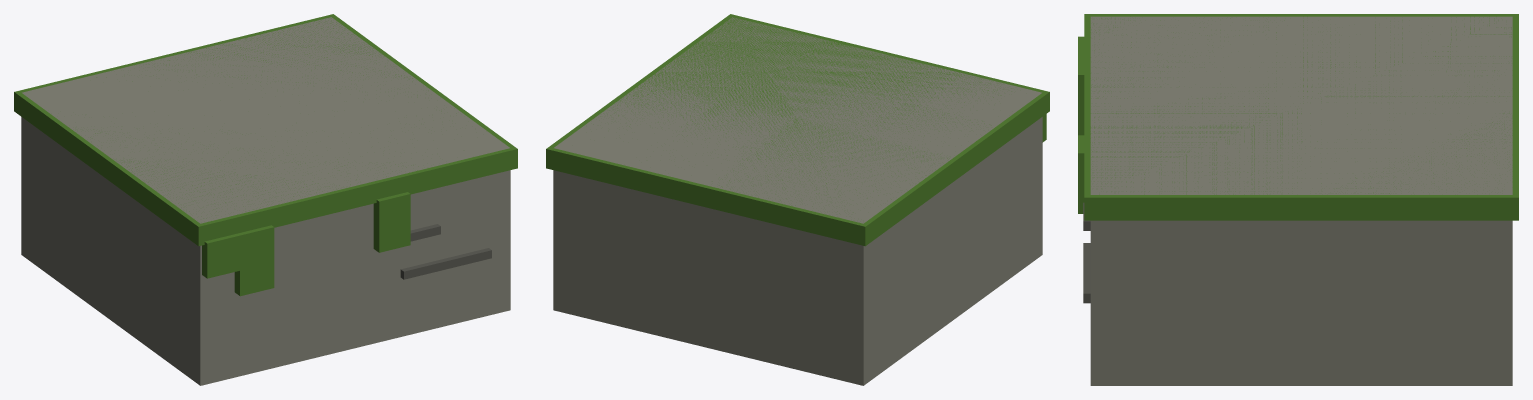
File: platform_small.glb
The picture shows the model from 3 angles, left to right: view 1: azimuth 30°, elevation 25°; view 2: azimuth 150°, elevation 25°; view 3: azimuth 270°, elevation 25°; orthographic projection. The views are drawn at different scales.
Parts seen in each view (by area): view 1: stone-col, moss-col, stone_dark; view 2: stone-col, moss-col; view 3: stone-col, moss-col, stone_dark.
Boxes of the visible parts, x1,y1,x2,y2 form: stone-col: (21,17,510,385); moss-col: (14,14,517,296); stone_dark: (400,224,491,279); stone-col: (553,17,1042,385); moss-col: (546,14,1049,246); stone-col: (1090,16,1512,385); moss-col: (1078,14,1518,220); stone_dark: (1083,202,1090,303).
Size of the model in its own units: 2.06 by 1 by 2.09.
